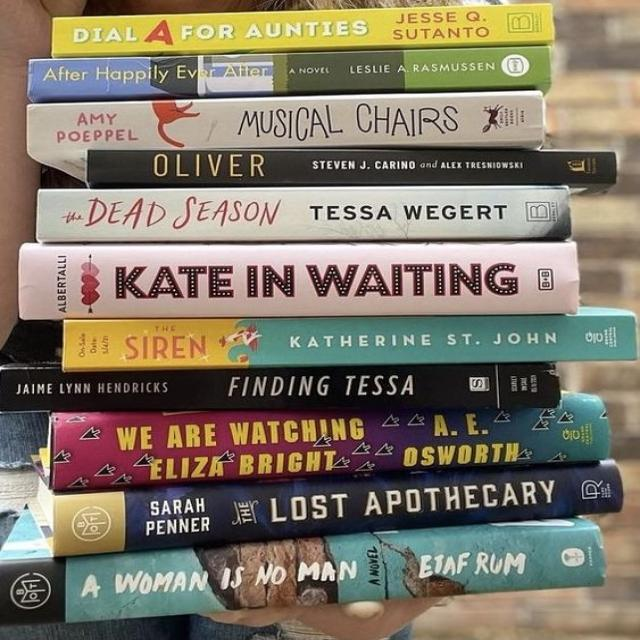book: (0, 528, 606, 627), (56, 462, 624, 558), (49, 398, 609, 488), (17, 244, 576, 320), (63, 315, 638, 374), (27, 92, 544, 154), (37, 186, 570, 240), (1, 365, 563, 413), (27, 45, 551, 96), (53, 5, 555, 56), (87, 150, 617, 185)
